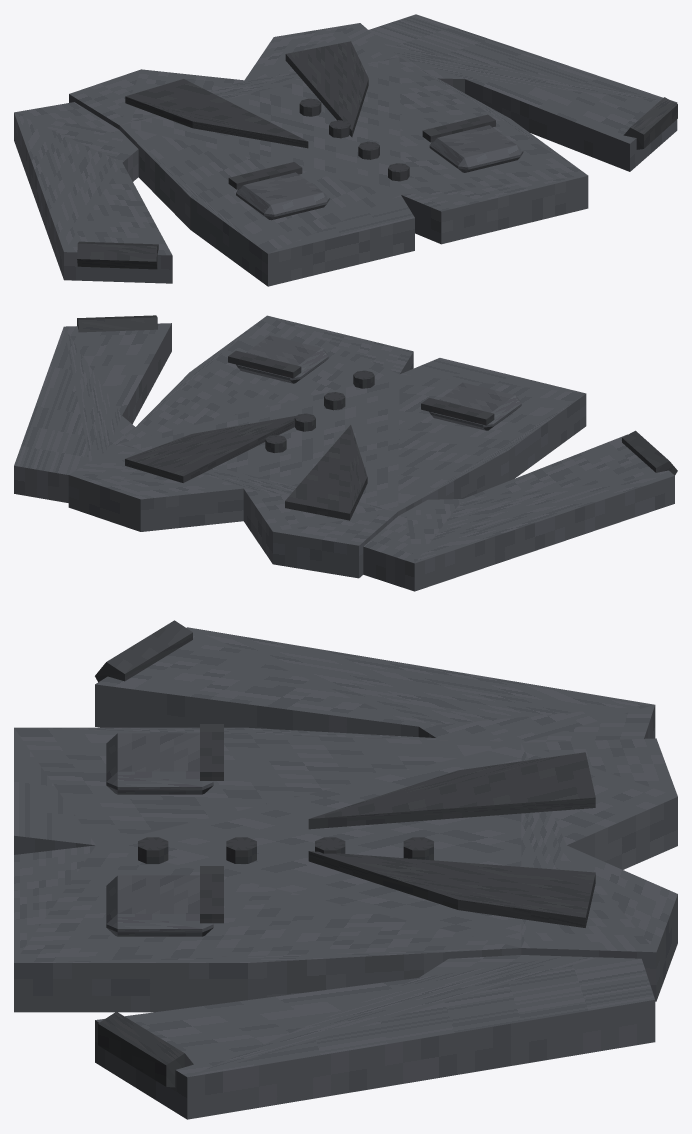
Rendered from blazer.glb.
The picture shows the model from 3 angles, top to bottom: view 1: azimuth 30°, elevation 25°; view 2: azimuth 150°, elevation 25°; view 3: azimuth 270°, elevation 25°; orthographic projection. The views are drawn at different scales.
Parts seen in each view (by area): view 1: block_coat body, block_sleeve (×2), block_lapel (×2), block_patch pocket (×2), block_cuff 0 (×2), block_pocket welt (×2); view 2: block_coat body, block_sleeve (×2), block_lapel (×2), block_patch pocket (×2), block_cuff 0 (×2), block_pocket welt (×2); view 3: block_coat body, block_sleeve (×2), block_lapel (×2), block_patch pocket (×2), block_cuff 0 (×2), block_pocket welt (×2), block_button (×2).
Part boxes in pixels (x1,y1,x2,y2): block_coat body: (69,23,588,286); block_sleeve (×2): (14,14,677,283); block_lapel (×2): (125,41,368,148); block_patch pocket (×2): (236,125,523,220); block_cuff 0 (×2): (77,97,677,269); block_pocket welt (×2): (228,114,495,189); block_coat body: (68,315,586,578); block_sleeve (×2): (14,323,674,591); block_lapel (×2): (125,415,367,520); block_patch pocket (×2): (236,335,521,430); block_cuff 0 (×2): (77,315,677,475); block_pocket welt (×2): (228,350,494,425); block_coat body: (14,727,677,1012); block_sleeve (×2): (95,627,655,1119); block_lapel (×2): (308,752,595,927); block_patch pocket (×2): (106,733,213,936); block_cuff 0 (×2): (95,620,193,1087); block_pocket welt (×2): (200,724,223,923); block_button (×2): (138,837,256,863).
Size of the model in its own units: 0.7212 by 0.0565 by 0.4497.
Materials: 1 (1 with a texture image).
